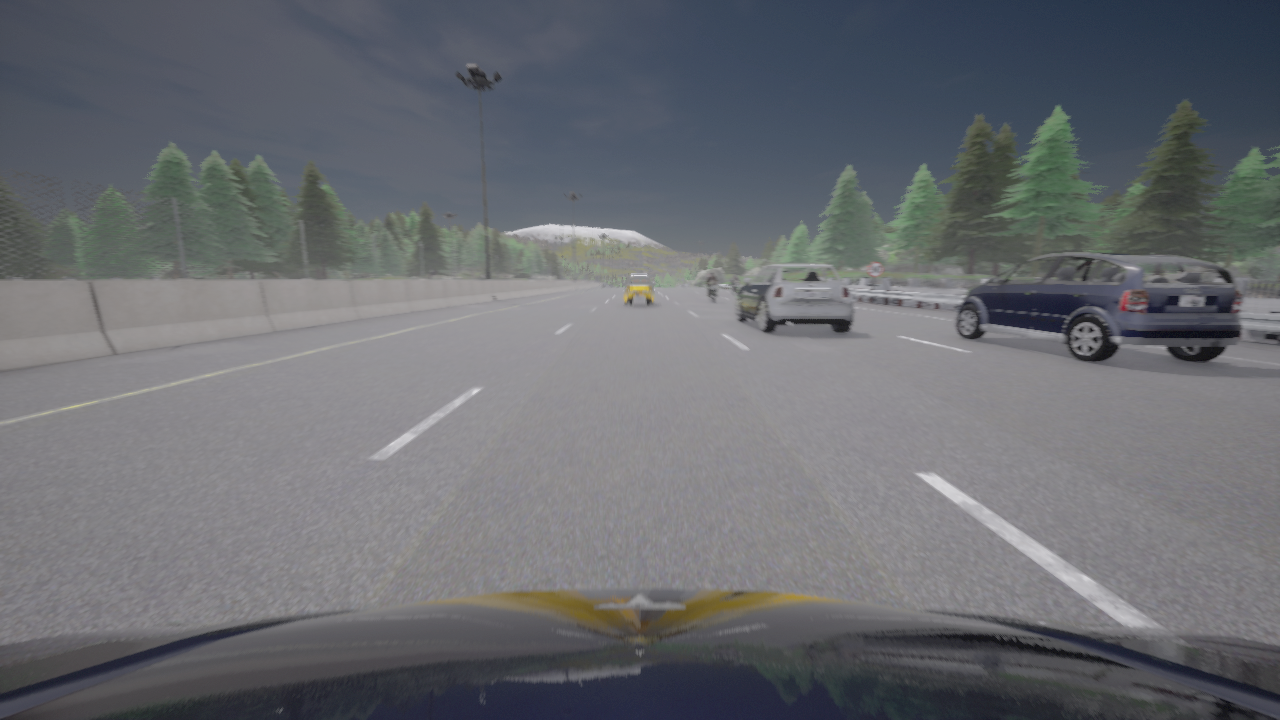cyclist: (0, 588, 1279, 719), (956, 253, 1242, 362), (735, 264, 854, 333), (623, 274, 655, 305), (708, 280, 718, 303), (731, 280, 739, 294)
